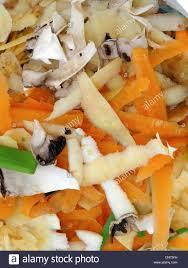Organic: (2, 2, 188, 228)
